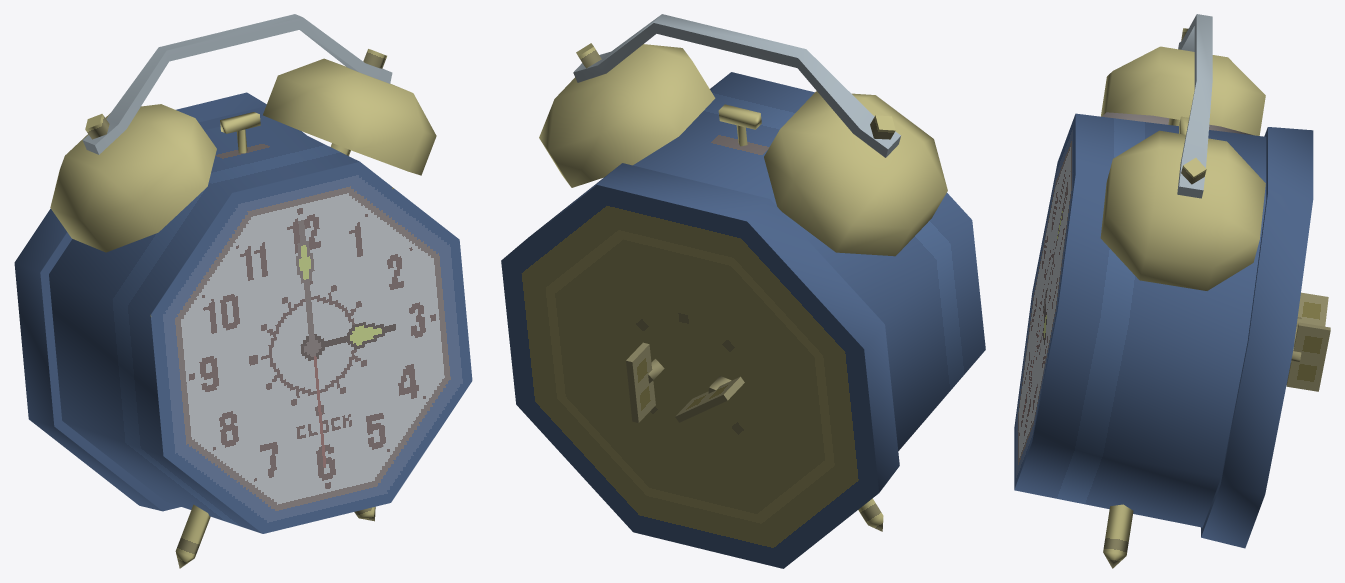
File: 01c8_Alarm_Clock.glb
3 views of the same model, side by side, from view 1: azimuth 30°, elevation 25°; view 2: azimuth 150°, elevation 25°; view 3: azimuth 270°, elevation 25° (orthographic). The views are drawn at different scales.
Visible parts, largest first — view 1: part_0; view 2: part_0; view 3: part_0.
Boxes of the visible parts, <box> form: part_0: <box>14,14,472,568</box>; part_0: <box>501,14,985,568</box>; part_0: <box>1014,14,1330,568</box>.
Size of the model in its own units: 0.1324 by 0.1725 by 0.1042.
1 material, 1 textured.
